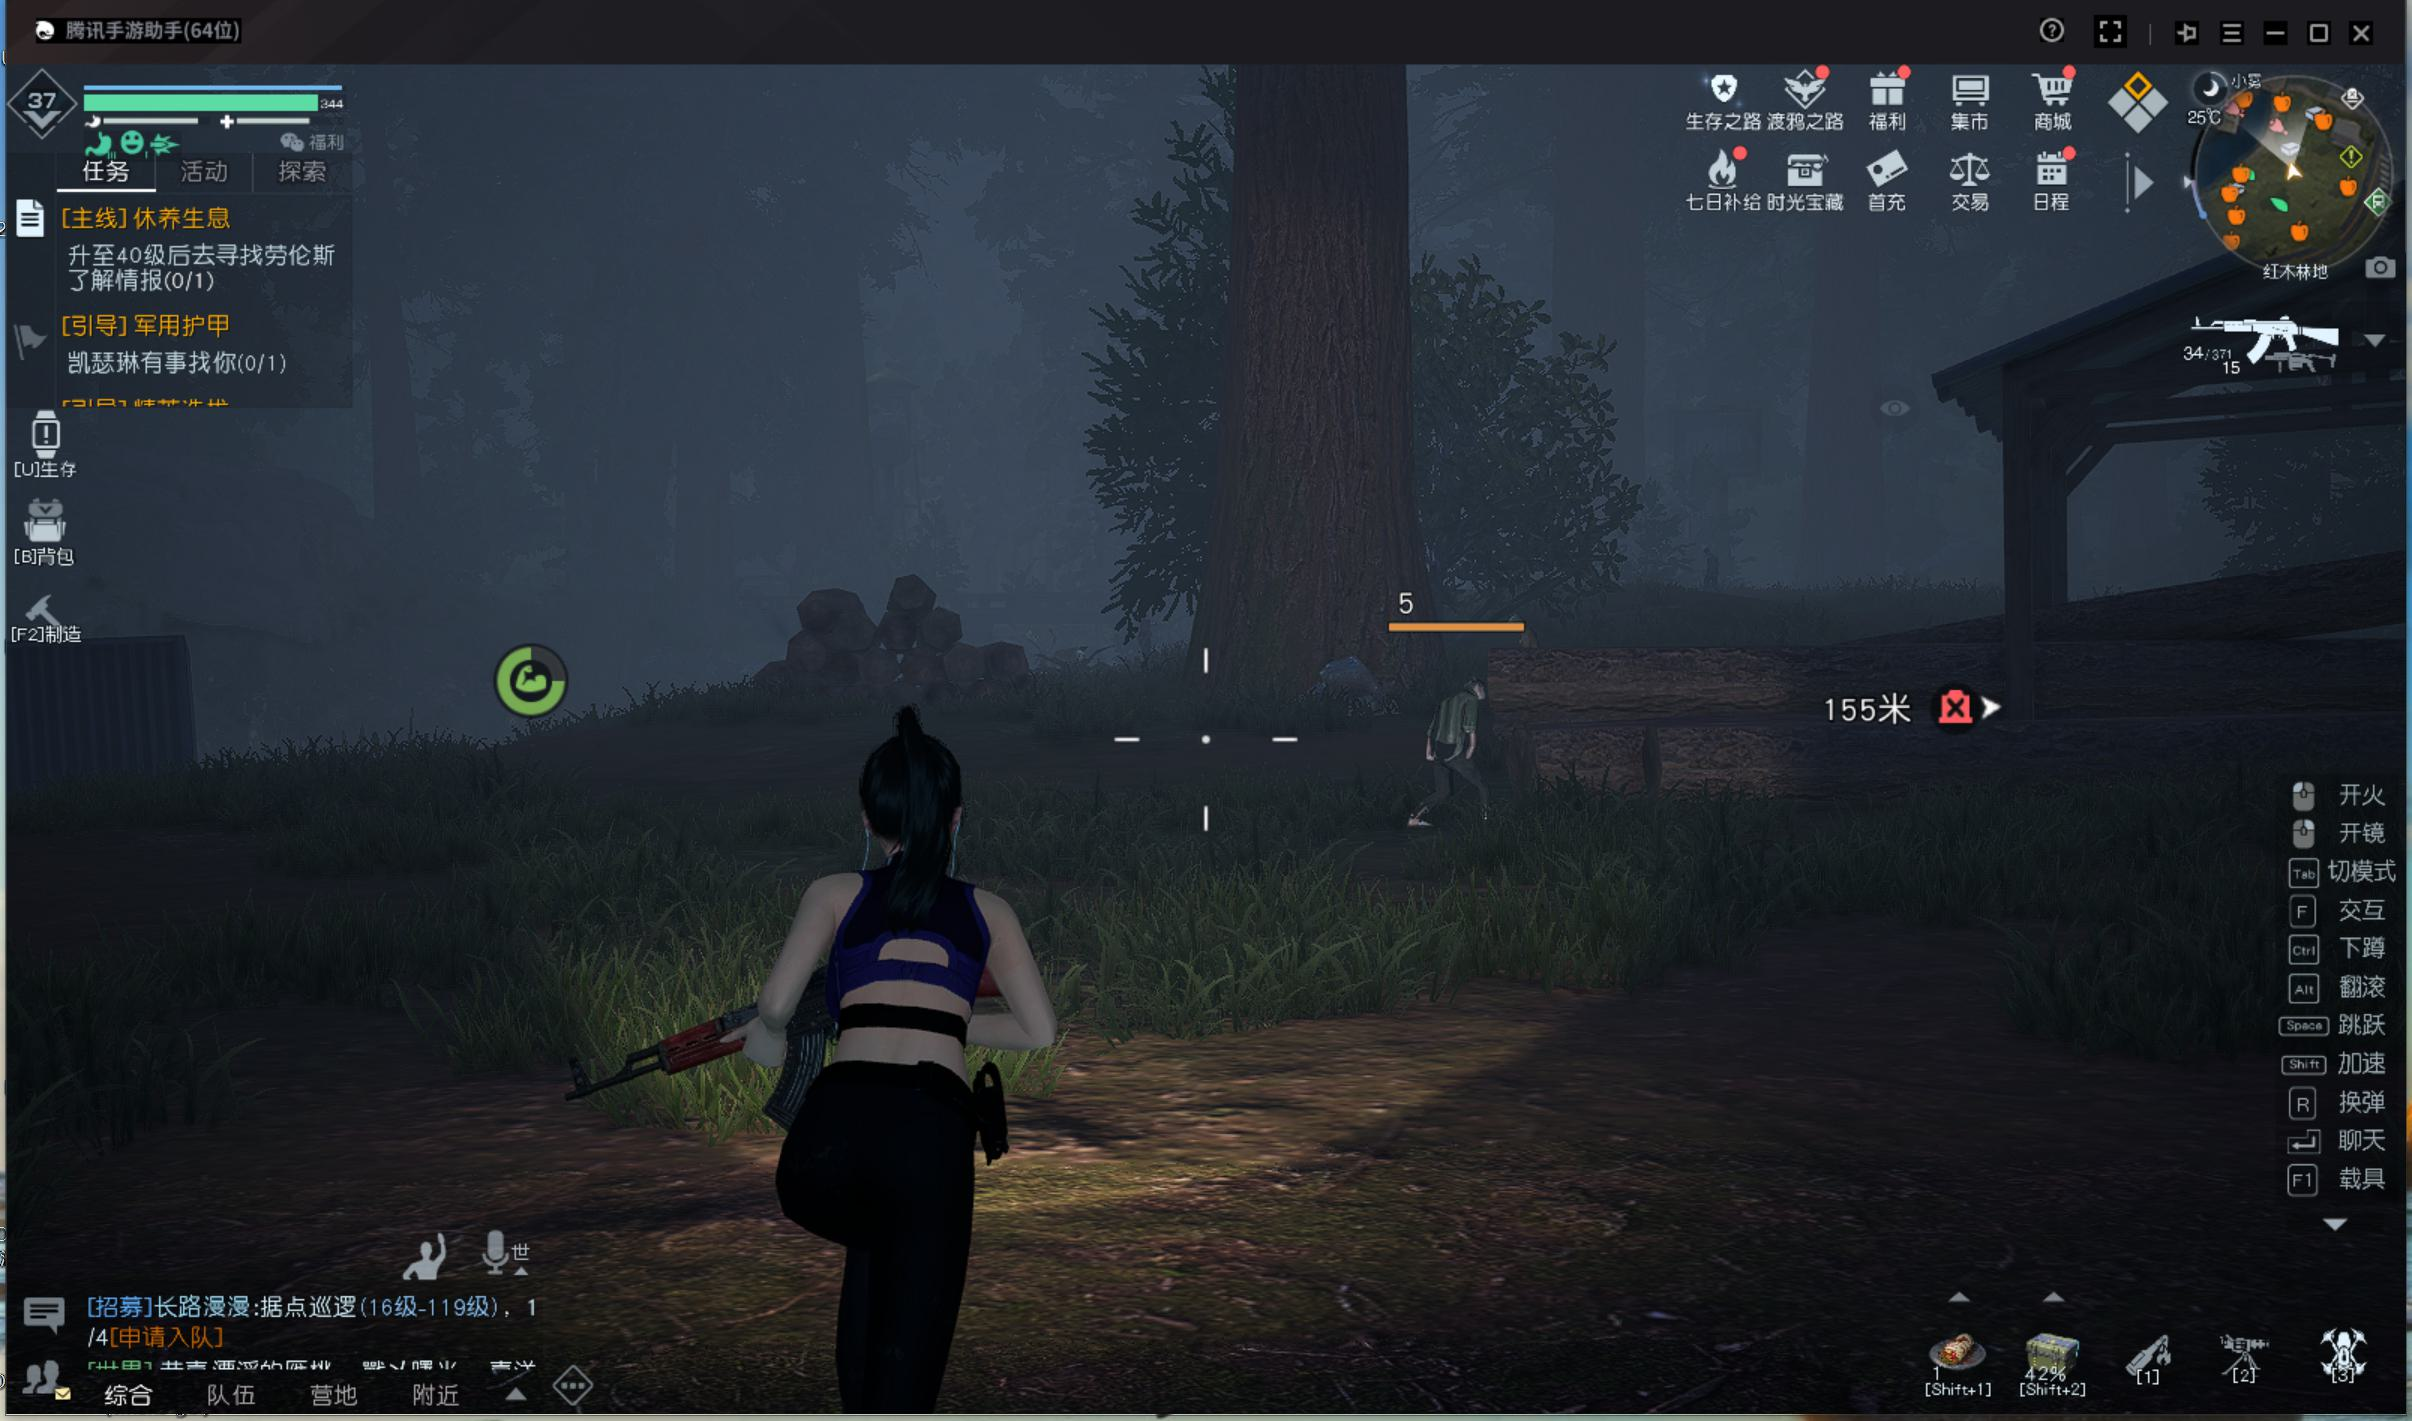stone: (1296, 646, 1390, 729)
tree: (1165, 80, 1453, 660)
